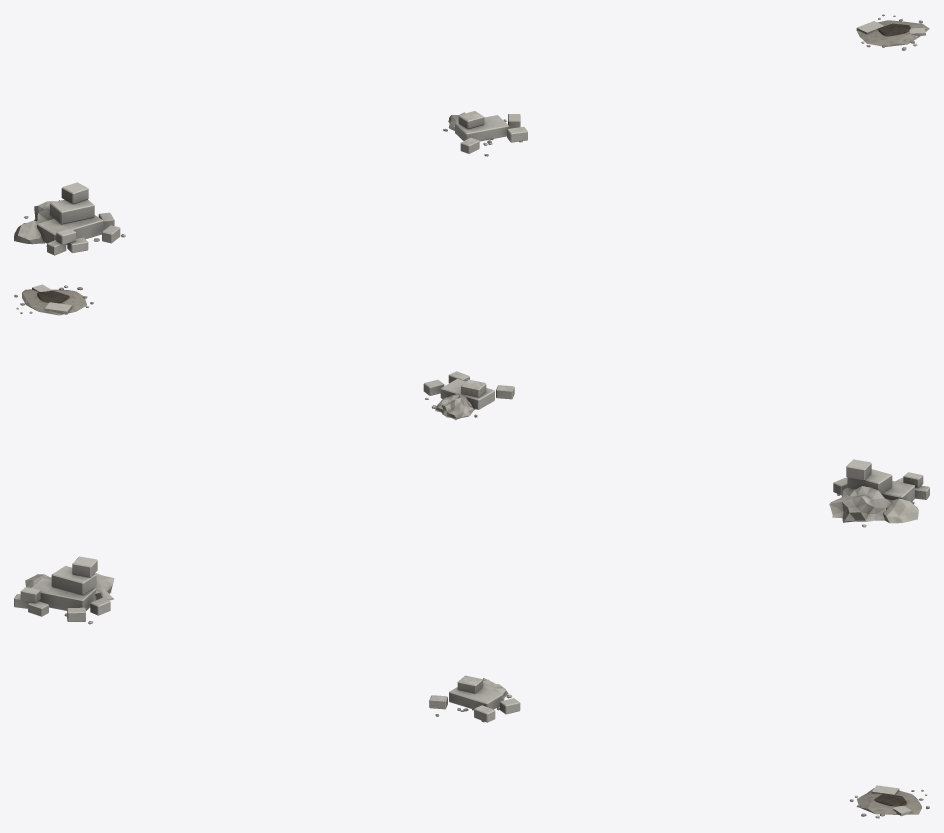
File: stone-outcrop.glb
3 views of the same model, one above another, from view 1: azimuth 30°, elevation 25°; view 2: azimuth 150°, elevation 25°; view 3: azimuth 330°, elevation 25° (orthographic).
Visible parts, largest first — view 1: LOD0, LOD0.001, LOD0.002; view 2: LOD0, LOD0.001, LOD0.002; view 3: LOD0, LOD0.001, LOD0.002.
Boxes of the visible parts, x1=… form: LOD0: x1=14, y1=182, x2=125, y2=255; LOD0.001: x1=443, y1=111, x2=527, y2=156; LOD0.002: x1=856, y1=14, x2=929, y2=50; LOD0: x1=829, y1=459, x2=929, y2=527; LOD0.001: x1=423, y1=371, x2=514, y2=420; LOD0.002: x1=14, y1=284, x2=93, y2=315; LOD0: x1=14, y1=556, x2=114, y2=624; LOD0.001: x1=429, y1=675, x2=520, y2=722; LOD0.002: x1=850, y1=785, x2=929, y2=818.
Size of what is drawn, in the model's own units: 6.59 by 0.276 by 0.681.
Materials: 1 (1 with a texture image).
